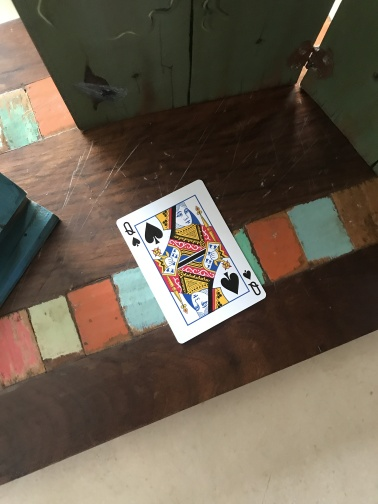queen: (115, 178, 268, 346)
